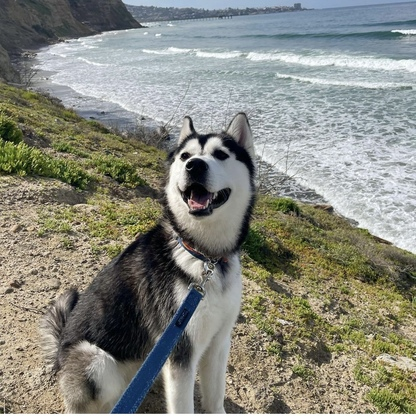husky: (34, 108, 260, 416)
